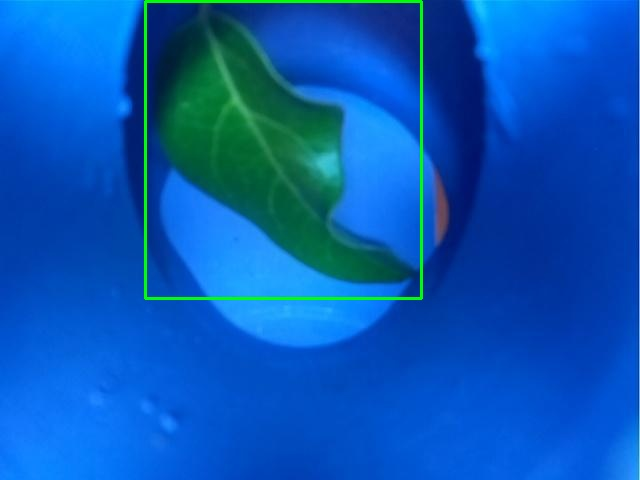feuille: (145, 1, 421, 298)
